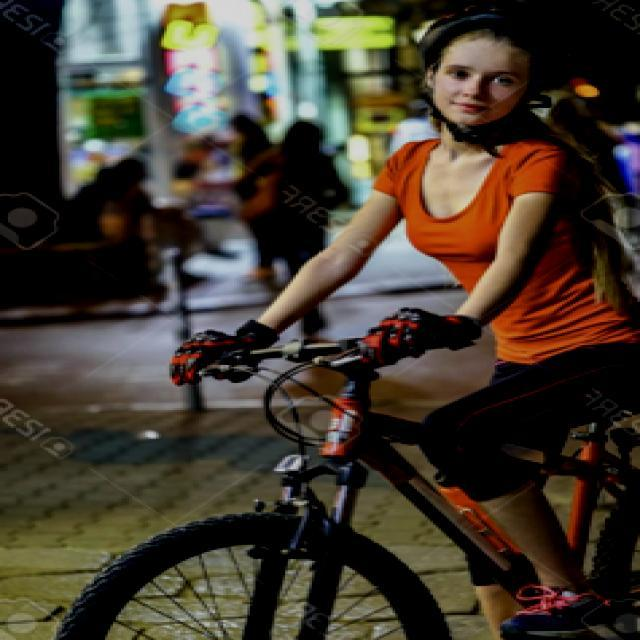Helmet: (396, 1, 592, 146)
